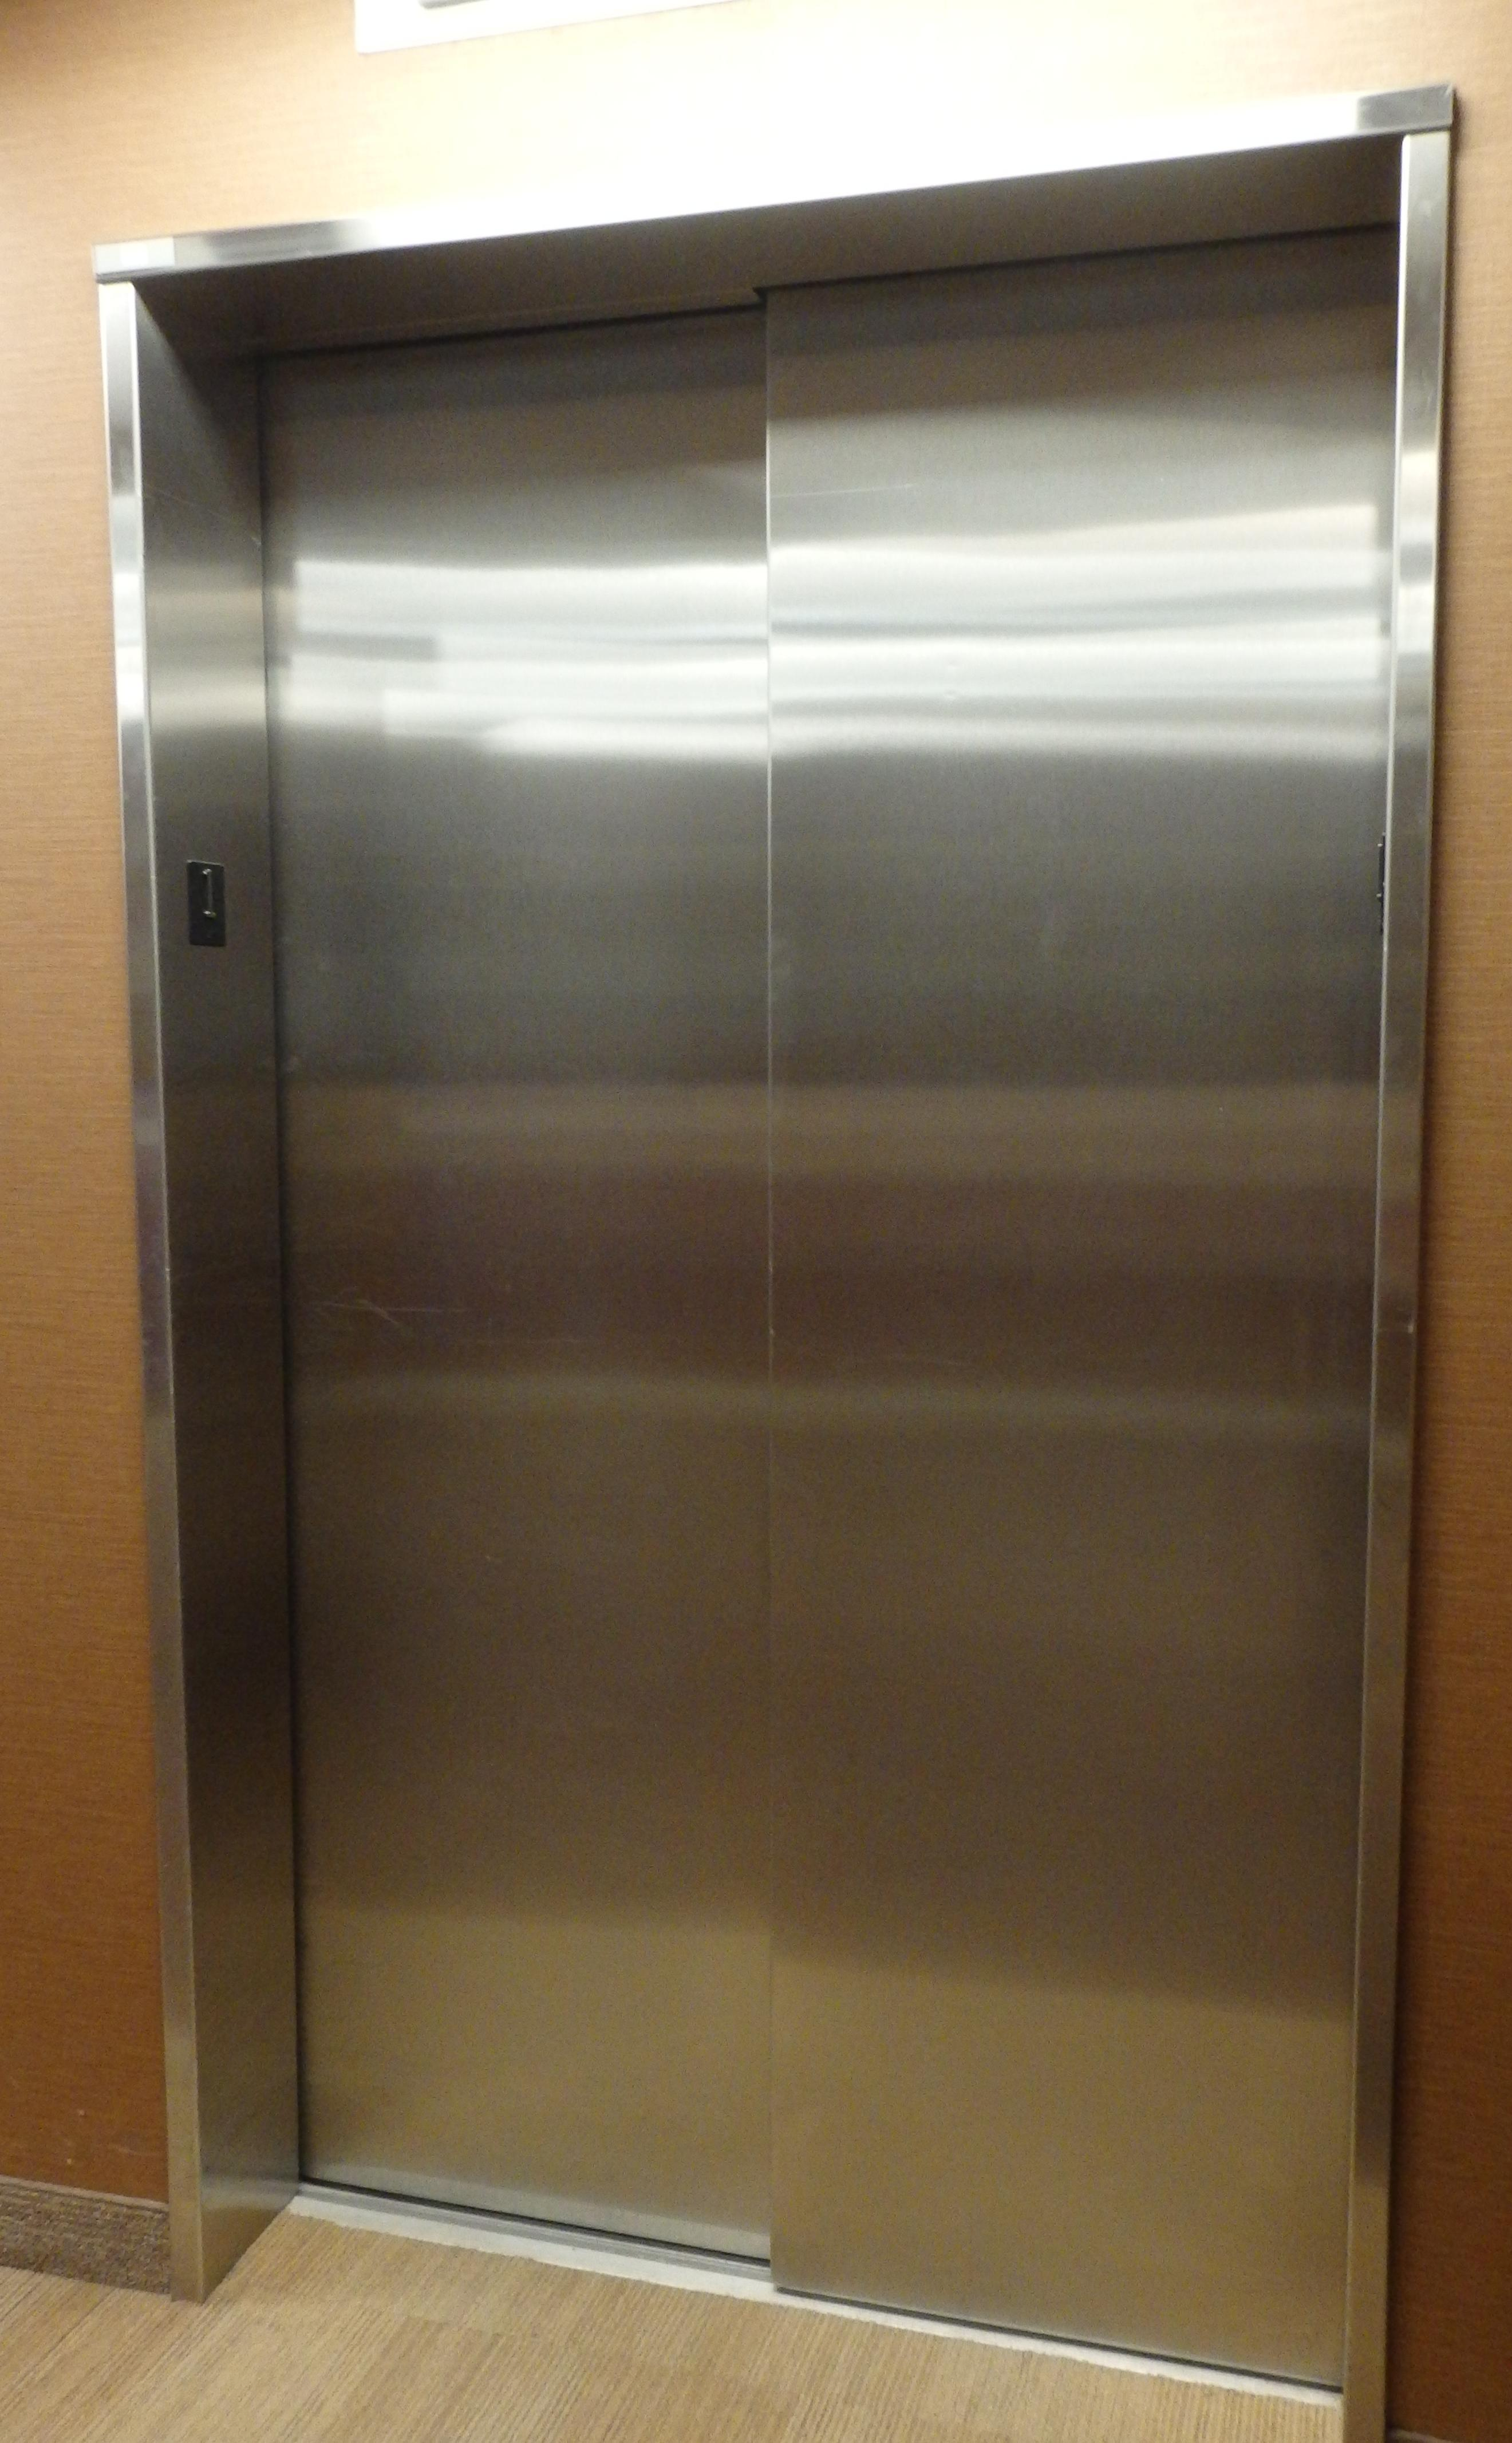door: (112, 265, 1402, 2408)
